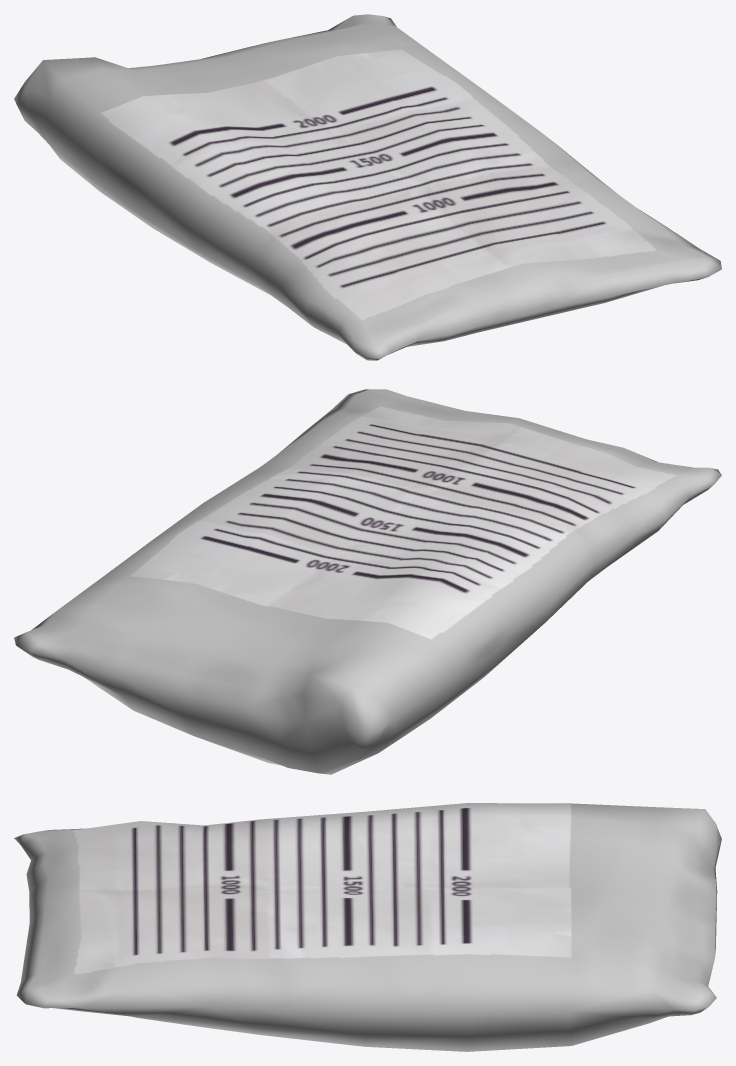
File: catheter_bag_packed.fbx
3 views of the same model, one above another, from view 1: azimuth 30°, elevation 25°; view 2: azimuth 150°, elevation 25°; view 3: azimuth 270°, elevation 25° (orthographic).
Parts seen in each view (by area): view 1: Plane.007; view 2: Plane.007; view 3: Plane.007.
Boxes of the visible parts, left/top/right/bottom form: Plane.007: left=14, top=14, right=721, bottom=360; Plane.007: left=14, top=389, right=721, bottom=774; Plane.007: left=14, top=803, right=721, bottom=1051.
Bounding box in the file's own units: 0.1825 × 0.0557 × 0.3054.
